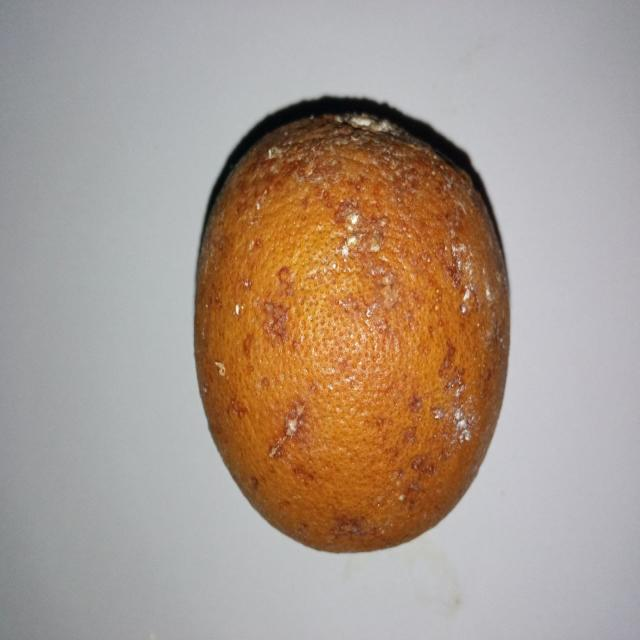rotten_orange: (196, 112, 508, 555)
